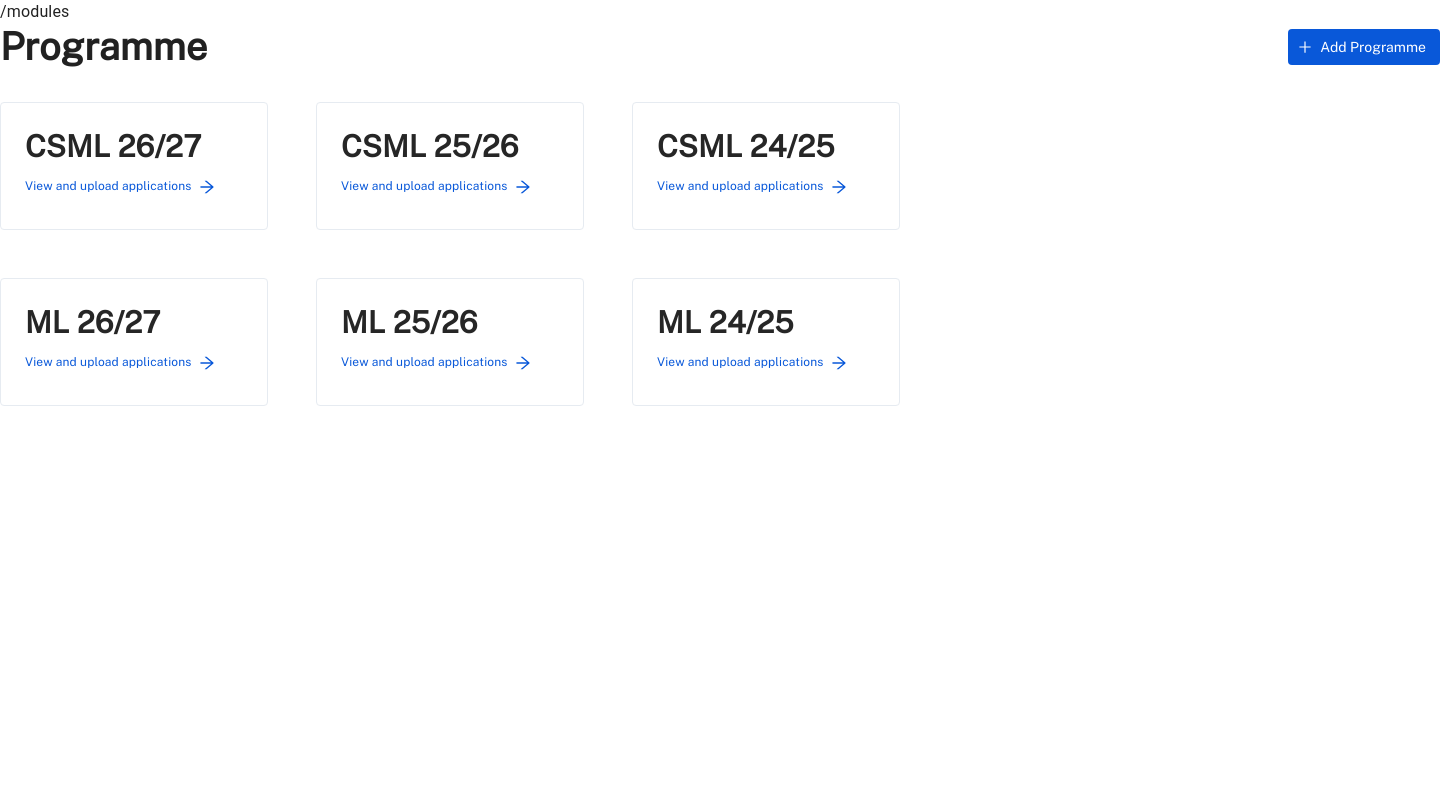
module workspace creation › adds a course by name, opens its intake workspace and closes the dialog
The image size is (1440, 810).
Click the button "Add Programme": (1364, 47) [1288, 29, 1439, 65]
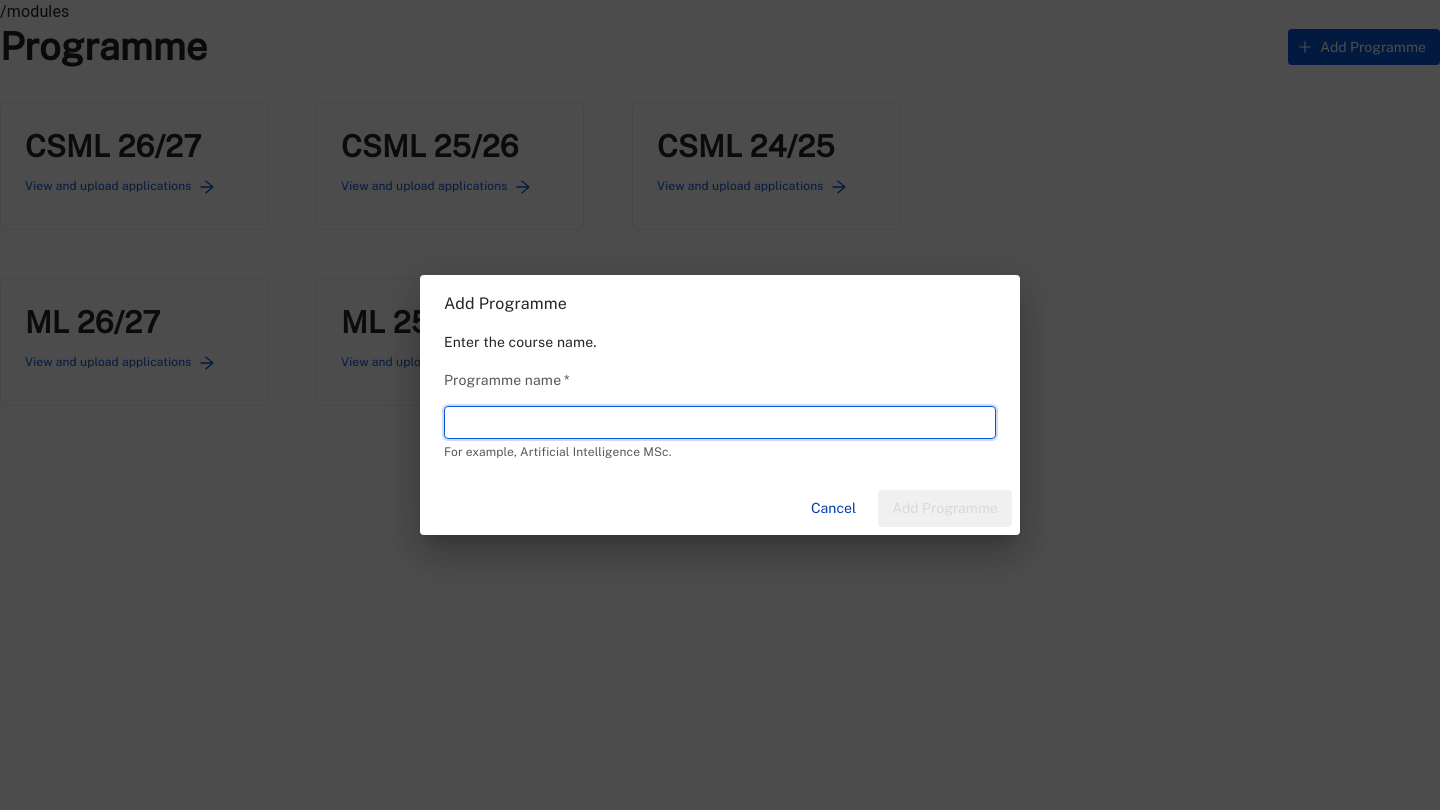
Check: the button "Add Programme" is disabled, box [878, 490, 1012, 527]
In the field labelled "Programme name": (720, 422) [444, 406, 996, 439], type "  Data Science & AI MSc  "
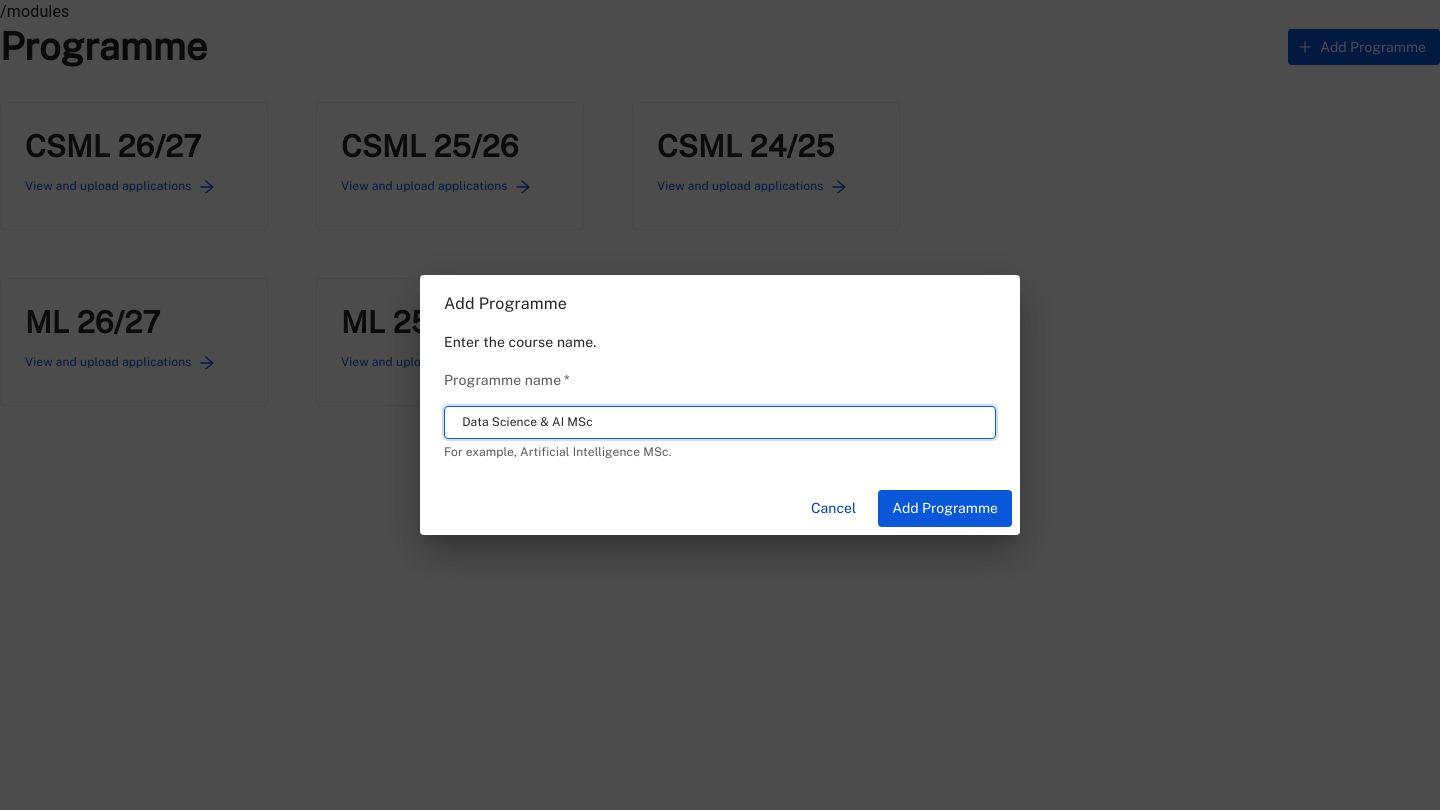
Press Enter
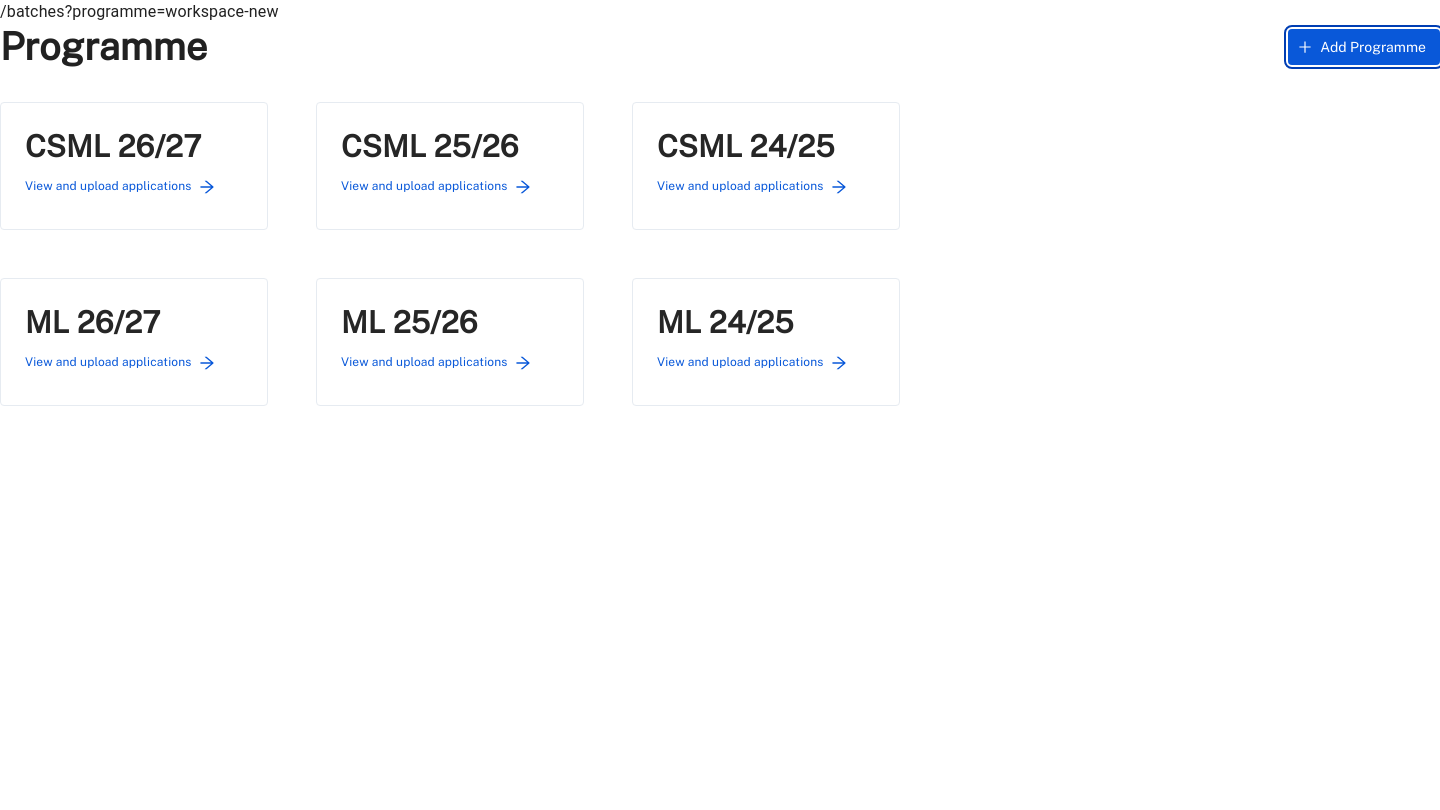
Check: the text named "Current URL" reads "/batches?programme=workspace-new", box [0, 2, 279, 21]
Check: the dialog is gone
